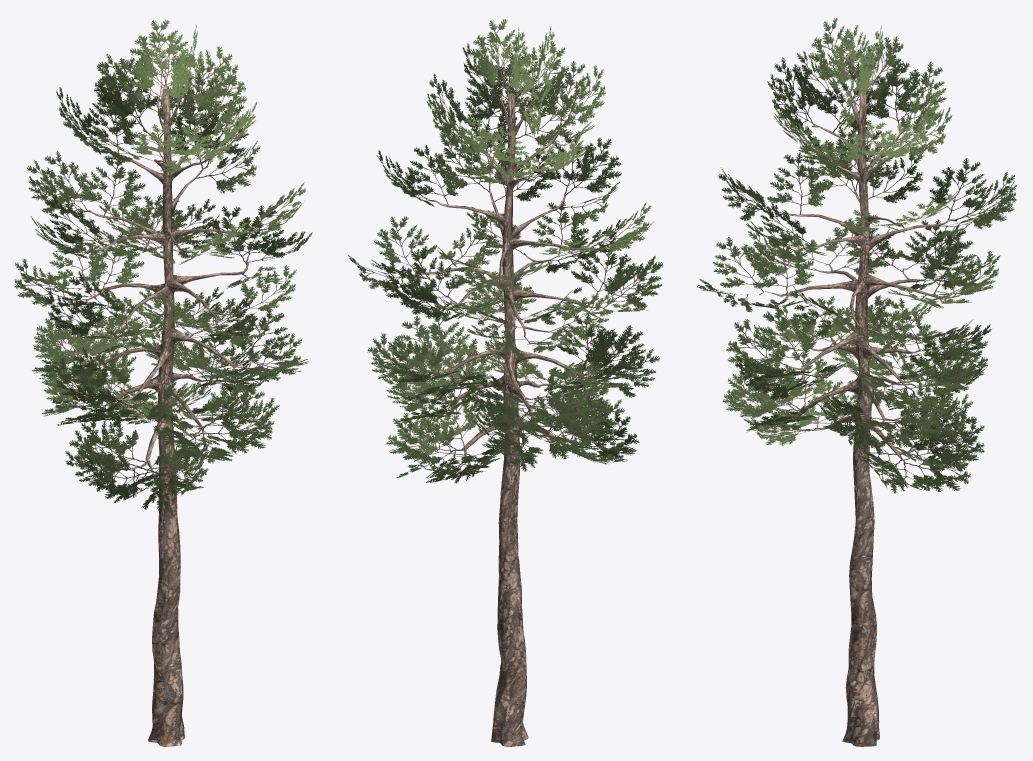
Rendered from pine.glb.
3 renders of one model, left to right at view 1: azimuth 30°, elevation 25°; view 2: azimuth 150°, elevation 25°; view 3: azimuth 270°, elevation 25°, orthographic.
Visible parts, largest first — view 1: Tree_1, Tree_0; view 2: Tree_1, Tree_0; view 3: Tree_1, Tree_0.
Boxes of the visible parts, bbox=[...] form: Tree_1: bbox=[14, 19, 312, 510]; Tree_0: bbox=[77, 88, 253, 746]; Tree_1: bbox=[347, 19, 662, 483]; Tree_0: bbox=[411, 88, 604, 746]; Tree_1: bbox=[697, 18, 1016, 493]; Tree_0: bbox=[759, 88, 956, 746].
Size of the model in its own units: 2.18 by 5.32 by 2.17.
Materials: 2 (2 with a texture image).
